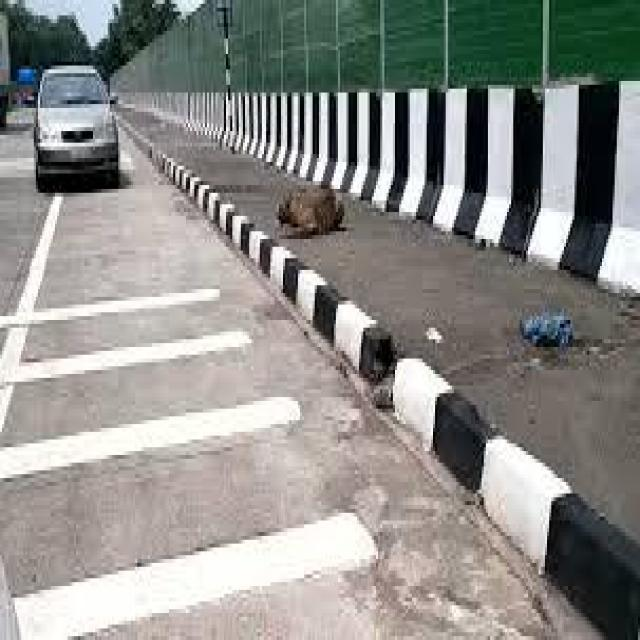bump: (378, 345, 640, 640), (249, 236, 399, 382)
